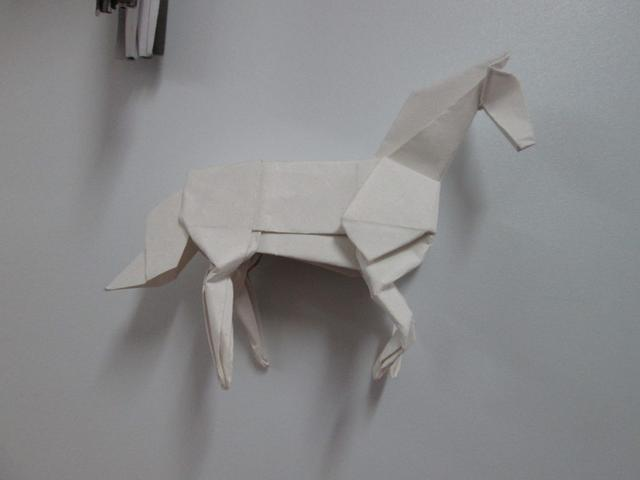horse: (69, 35, 557, 420)
